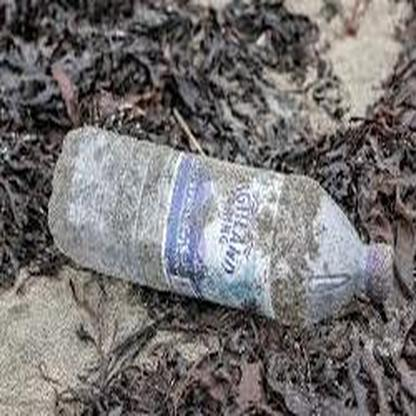plastic bottle: (49, 127, 394, 322)
